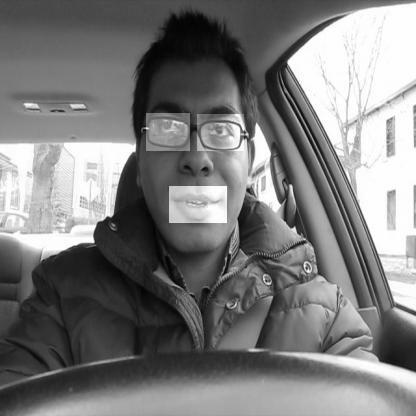seatbelt: (130, 8, 298, 416)
